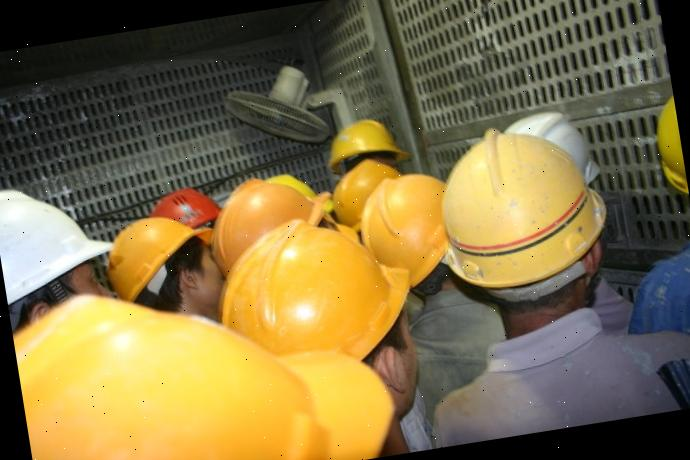helmet: (13, 284, 404, 460), (415, 120, 627, 319), (197, 204, 418, 364), (0, 166, 122, 302), (348, 162, 460, 290), (198, 168, 328, 274), (99, 193, 220, 301), (314, 109, 416, 177), (639, 80, 689, 204)
